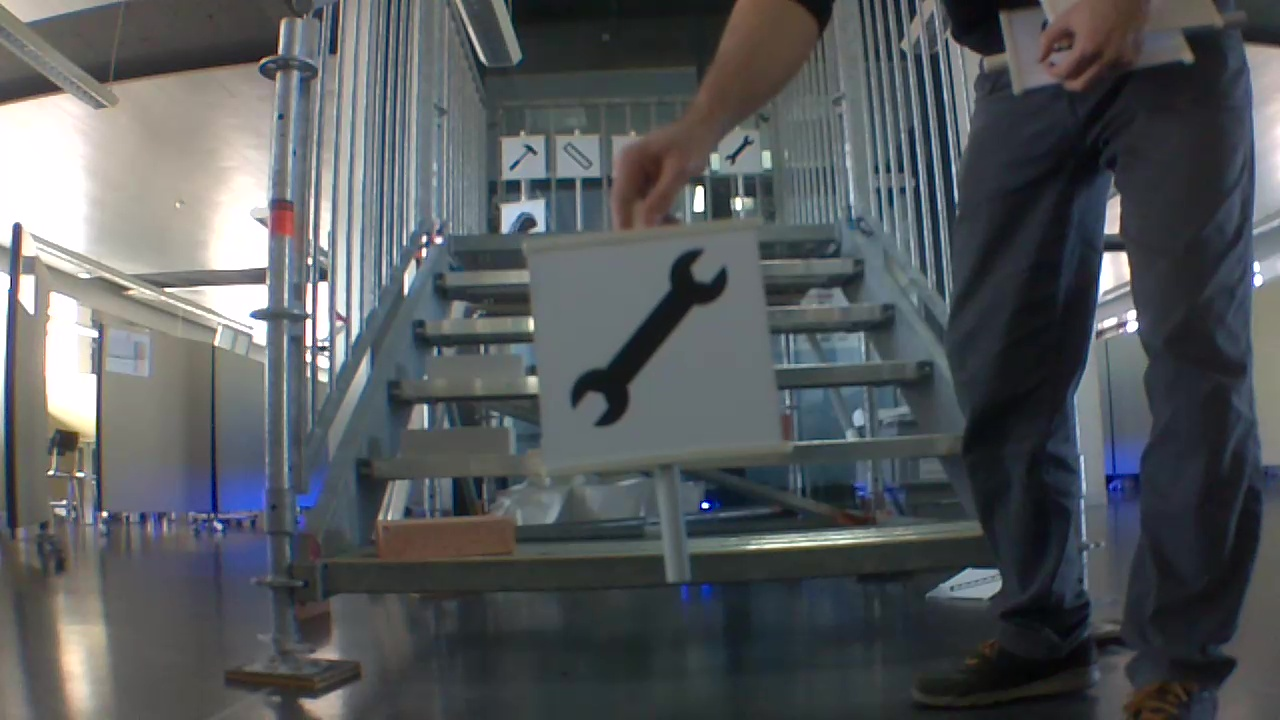brick: (372, 512, 518, 560), (398, 428, 510, 458), (425, 355, 520, 377)
hammer: (507, 140, 540, 173)
ruler: (563, 137, 591, 173)
taco: (508, 209, 541, 234)
wrench: (569, 243, 730, 425), (725, 132, 757, 167)
